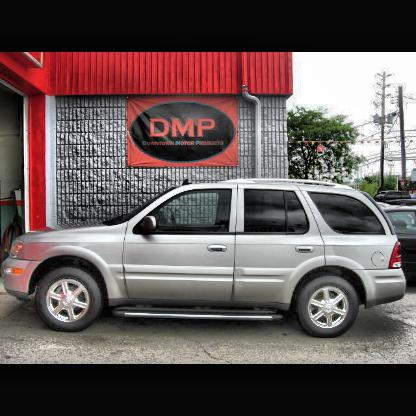Buick Rainier SUV 2007: (7, 179, 408, 335)
